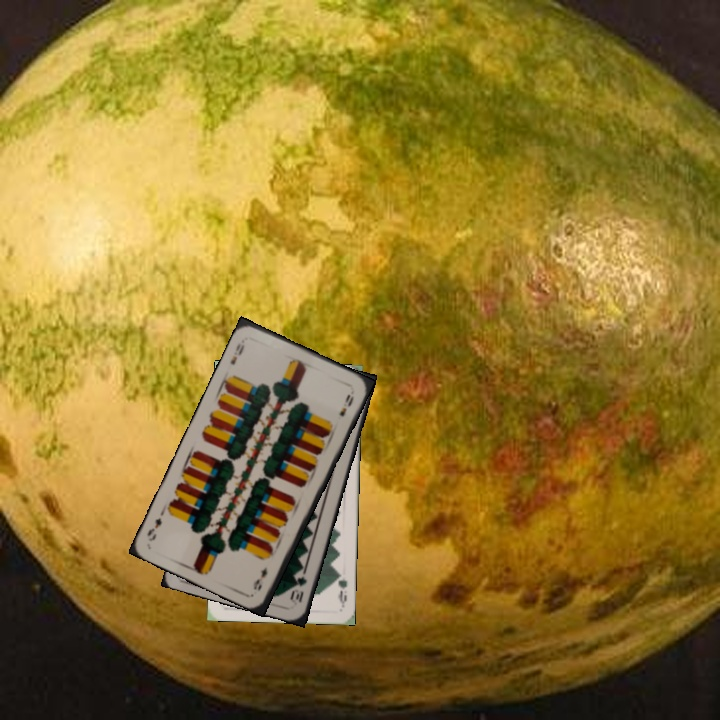E9: (226, 335, 249, 368), (249, 562, 270, 593)
G10: (287, 572, 309, 605)
G9: (332, 568, 350, 608)
